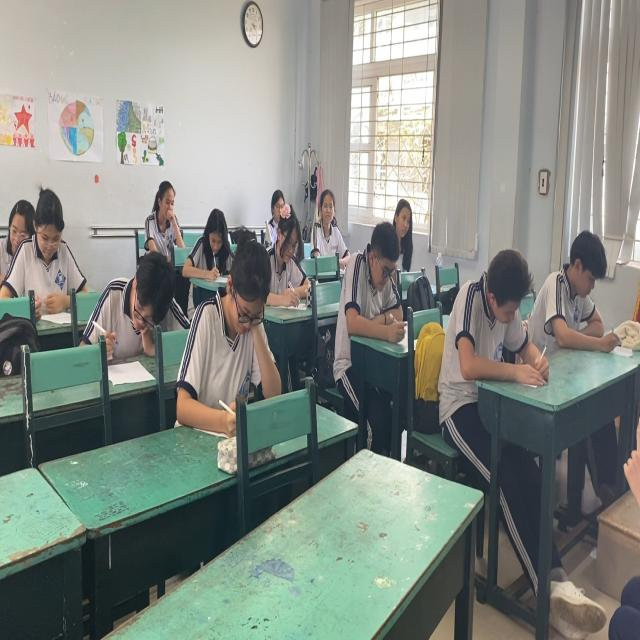not_cheating: (196, 238, 280, 407), (450, 241, 534, 386), (0, 182, 77, 320), (87, 255, 172, 365), (540, 224, 610, 355), (352, 224, 409, 338), (254, 186, 304, 296), (147, 165, 186, 241), (310, 192, 350, 262), (192, 210, 232, 276), (382, 193, 417, 241)
